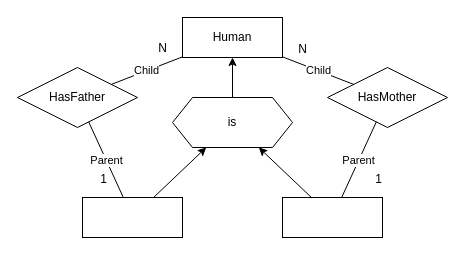
The diagram is 465 pixels wide and 255 high, and some of its shapes have lost their labels. Each missing label, with the centre of its shape:
Female: the point at 332,217
Male: the point at 132,217
